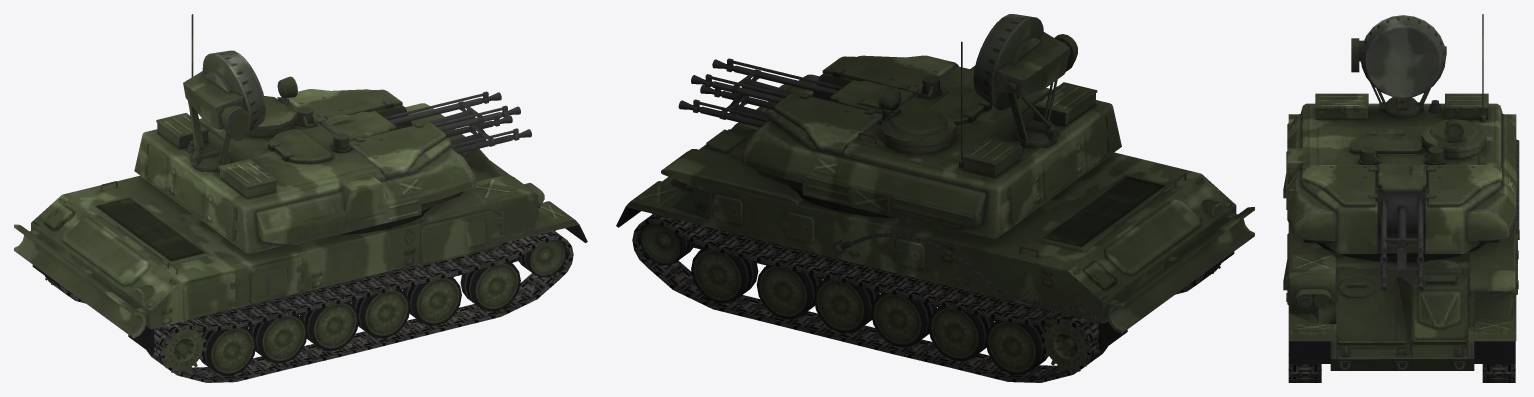
Rendered from zsu-23-4v1_shilka_ussr.glb.
The picture shows the model from 3 angles, left to right: view 1: azimuth 30°, elevation 25°; view 2: azimuth 150°, elevation 25°; view 3: azimuth 270°, elevation 25°; orthographic projection. The views are drawn at different scales.
Visible parts, largest first — view 1: mesh_280_mat_59_0, mesh_281_mat_60_0; view 2: mesh_280_mat_59_0, mesh_281_mat_60_0; view 3: mesh_280_mat_59_0, mesh_281_mat_60_0.
Boxes of the visible parts, <box> form: mesh_280_mat_59_0: <box>14,14,587,375</box>; mesh_281_mat_60_0: <box>45,231,573,382</box>; mesh_280_mat_59_0: <box>616,14,1254,375</box>; mesh_281_mat_60_0: <box>632,214,1220,382</box>; mesh_280_mat_59_0: <box>1283,14,1519,370</box>; mesh_281_mat_60_0: <box>1288,341,1515,382</box>.
Bounding box in the file's own units: 69.54 × 40.79 × 32.96.
Materials: 2 (2 with a texture image).
